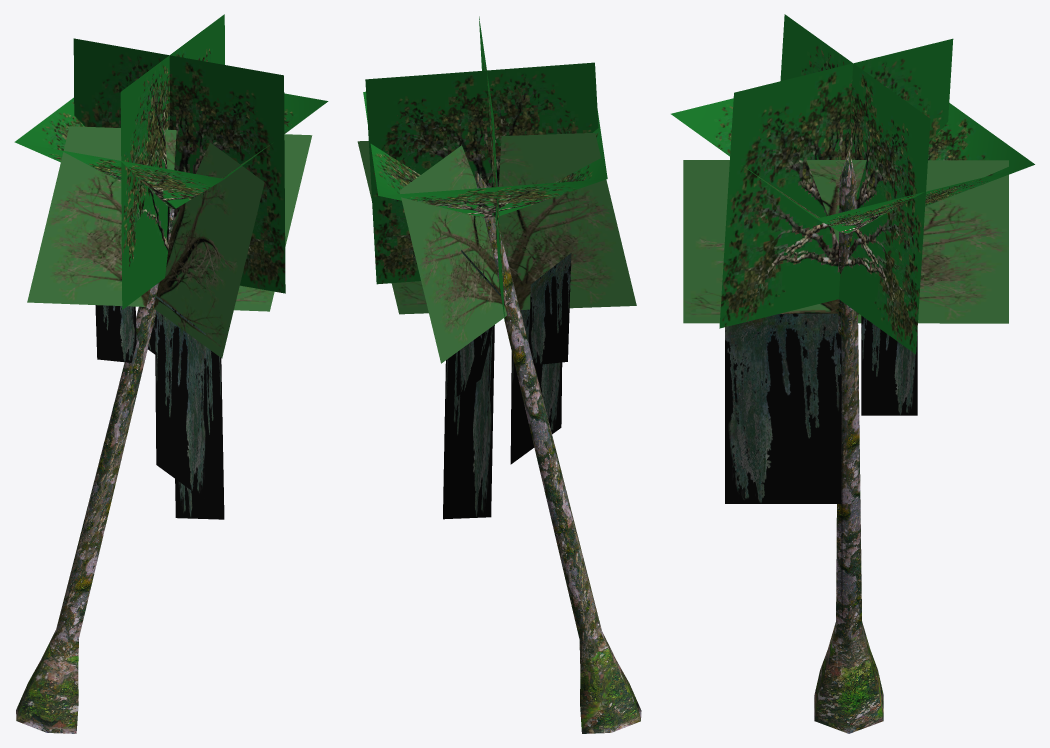
The model's file is decd_mosstreetilted_l0.fbx.
3 views of the same model, side by side, from view 1: azimuth 30°, elevation 25°; view 2: azimuth 150°, elevation 25°; view 3: azimuth 270°, elevation 25° (orthographic). The views are drawn at different scales.
Parts seen in each view (by area): view 1: mesh_node; view 2: mesh_node; view 3: mesh_node.
Boxes of the visible parts, bbox=[...] form: mesh_node: bbox=[14, 14, 328, 733]; mesh_node: bbox=[357, 16, 641, 733]; mesh_node: bbox=[671, 14, 1034, 733].
Bounding box in the file's own units: 7.93 × 16.51 × 7.5.
